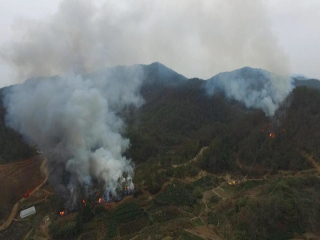smoke: (4, 7, 144, 204), (199, 3, 296, 118)
